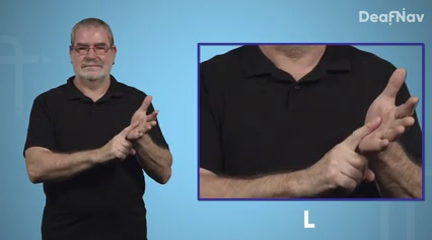L: (299, 64, 422, 193), (104, 93, 163, 162)
